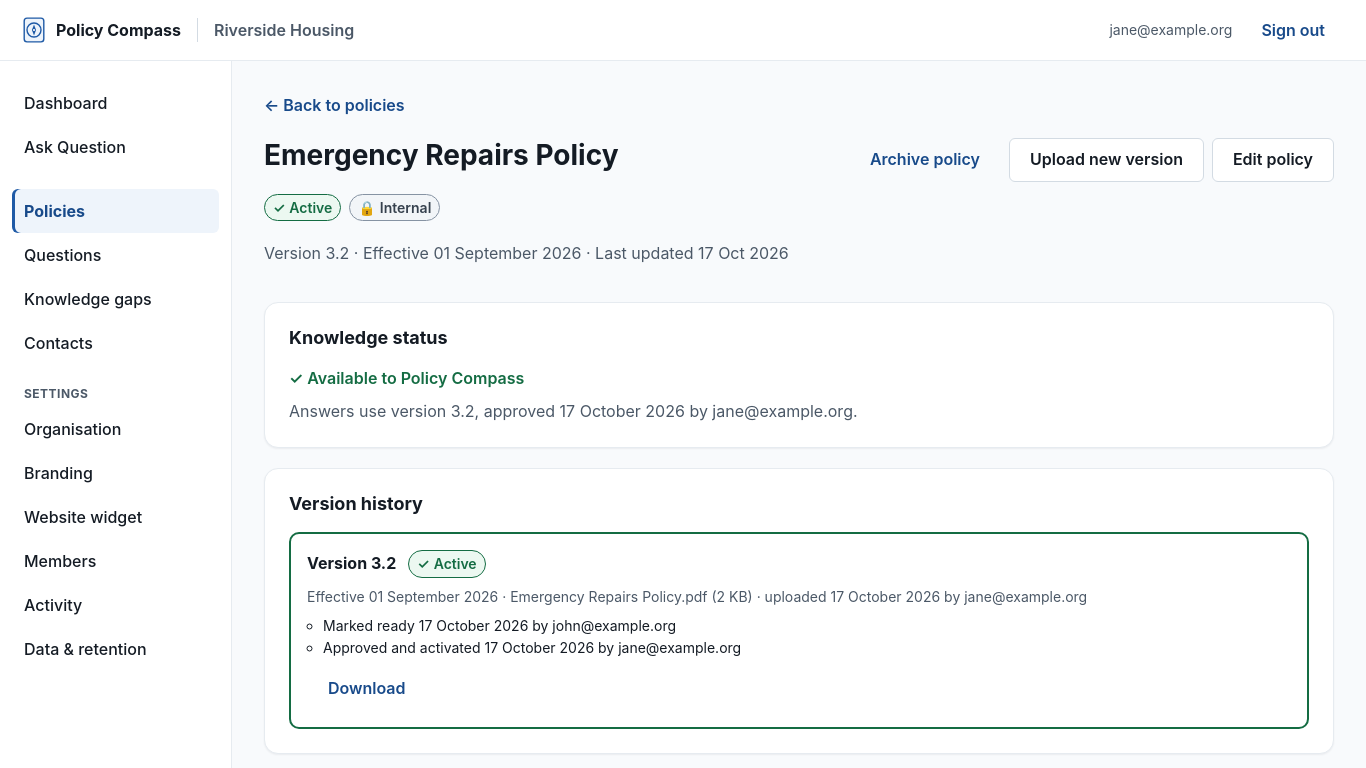
Test: Policy detail › warns before making an internal policy public
This screenshot has width=1366, height=768.
Click the button "Edit policy" at (1273, 160), box left=1212, top=138, right=1334, bottom=182
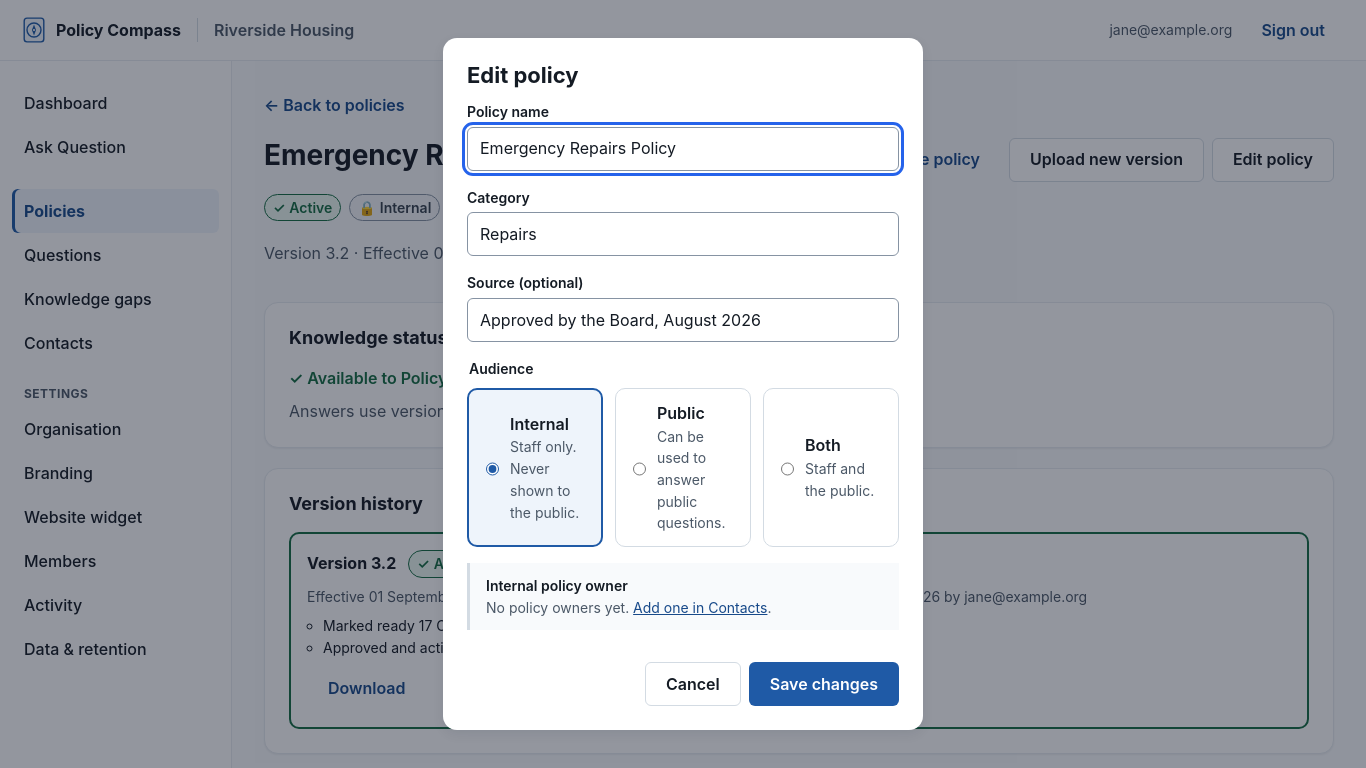
Click the radio button labelled "Public Can be used to answer public questions." at (640, 469), box left=633, top=460, right=646, bottom=478
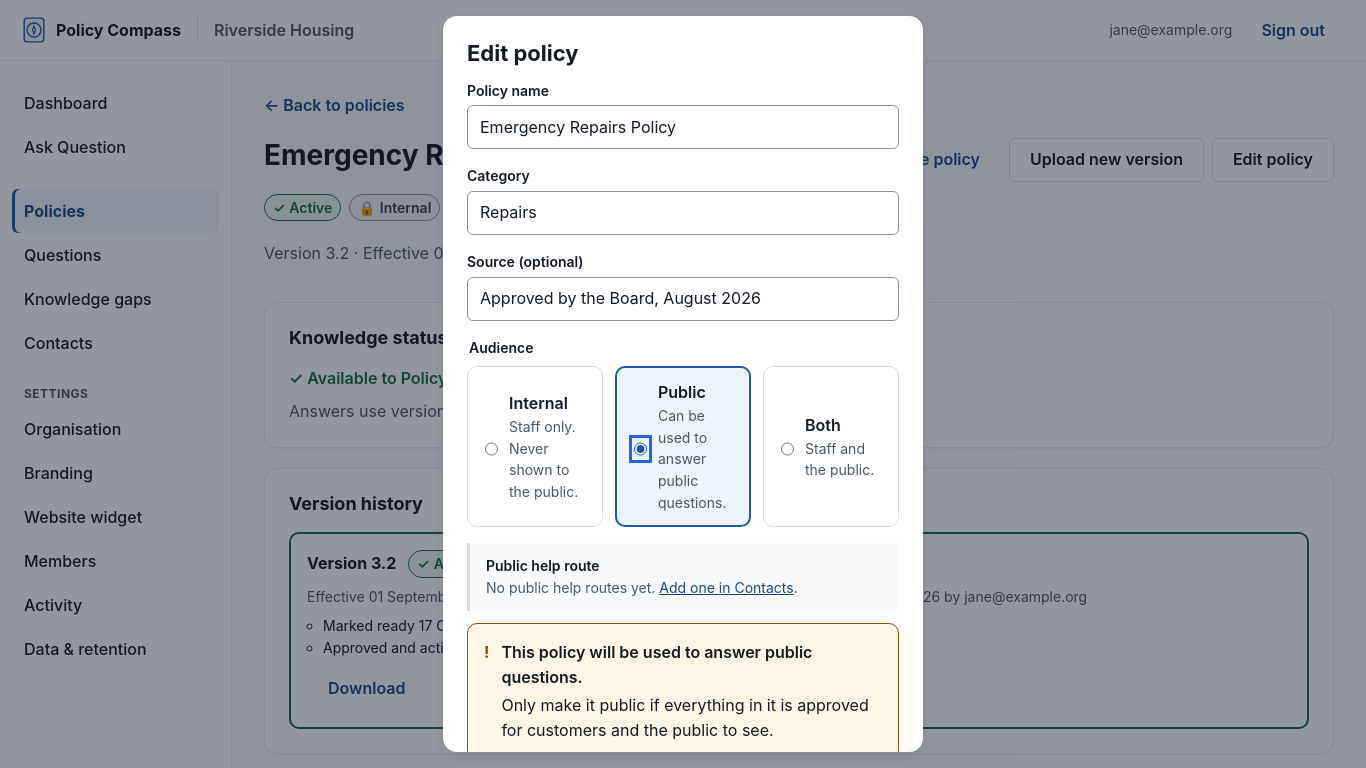
Result: the message shows "This policy will be used to answer public questions." at left=501, top=642, right=812, bottom=687
